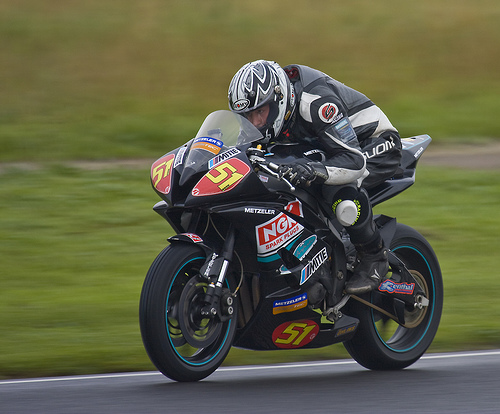helmet: (227, 65, 303, 129)
